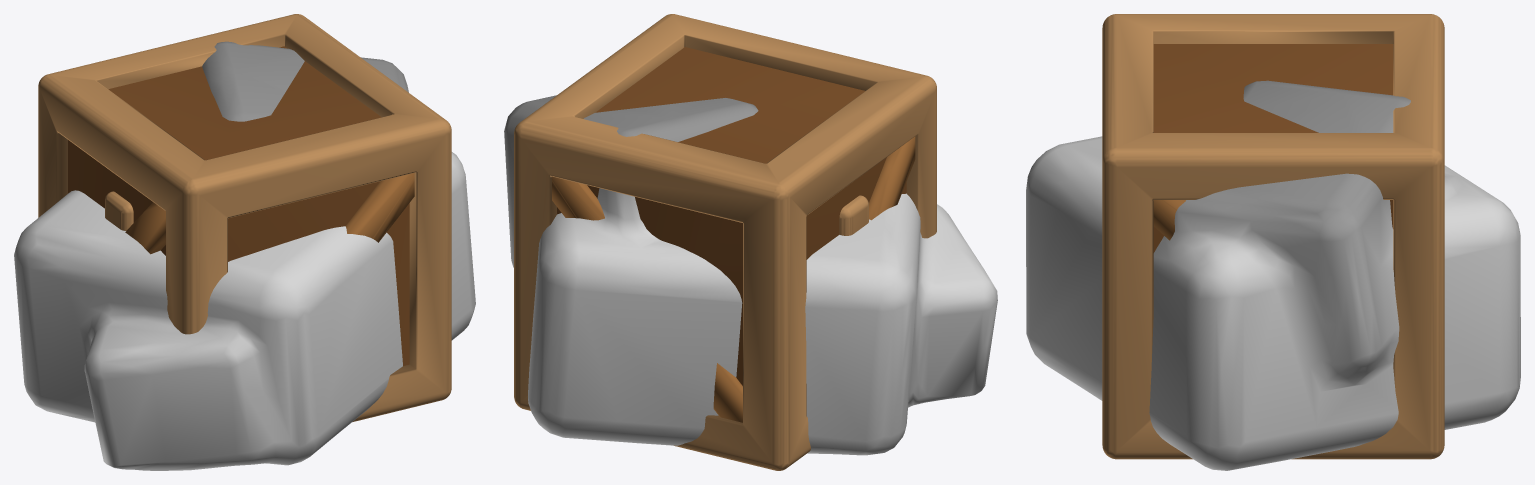
File: props.glb
3 views of the same model, side by side, from view 1: azimuth 30°, elevation 25°; view 2: azimuth 150°, elevation 25°; view 3: azimuth 270°, elevation 25° (orthographic). The views are drawn at different scales.
Visible parts, largest first — view 1: rock, crate, fence_seg; view 2: crate, rock, fence_seg; view 3: rock, crate.
Part boxes in pixels (x1=…): rock: x1=14, y1=41, x2=475, y2=470; crate: x1=38, y1=14, x2=451, y2=421; fence_seg: x1=105, y1=191, x2=133, y2=230; crate: x1=514, y1=14, x2=936, y2=470; rock: x1=504, y1=95, x2=997, y2=455; fence_seg: x1=839, y1=195, x2=868, y2=235; rock: x1=1026, y1=80, x2=1520, y2=470; crate: x1=1102, y1=14, x2=1444, y2=459.
Size of the model in its own units: 1.85 by 1.22 by 1.74.
